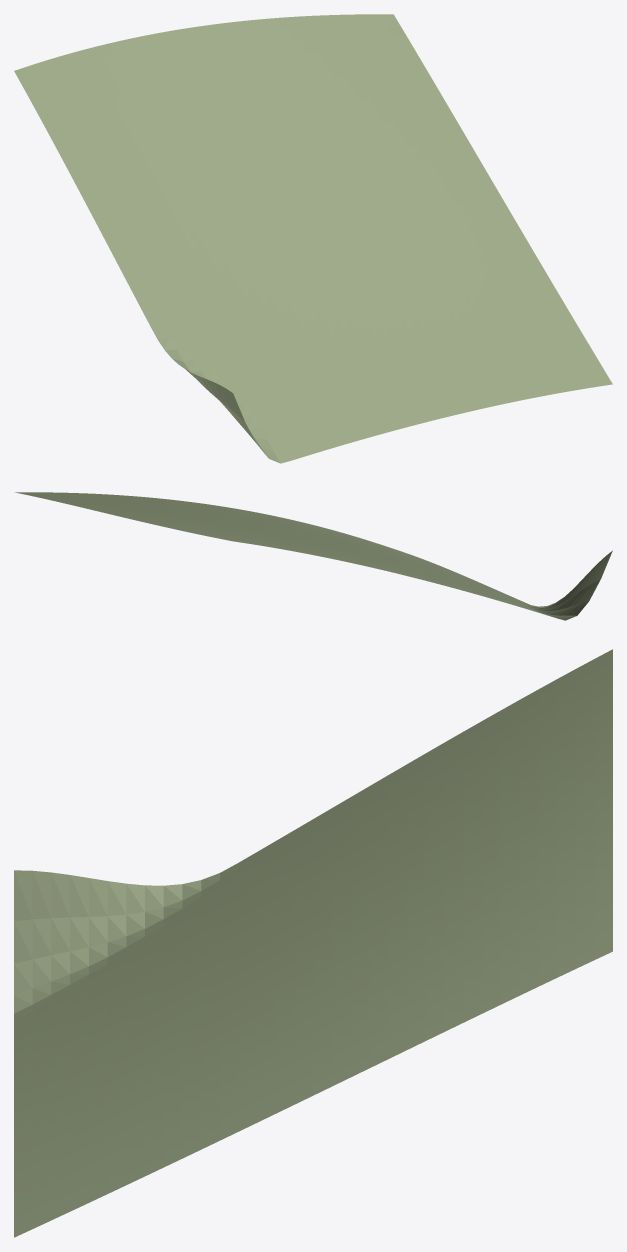
File: alpine-14-11.glb
3 views of the same model, one above another, from view 1: azimuth 30°, elevation 25°; view 2: azimuth 150°, elevation 25°; view 3: azimuth 270°, elevation 25° (orthographic). The views are drawn at different scales.
Parts seen in each view (by area): view 1: alpine-14-11; view 2: alpine-14-11; view 3: alpine-14-11.
Boxes of the visible parts, x1=… form: alpine-14-11: x1=14, y1=14, x2=612, y2=463; alpine-14-11: x1=15, y1=492, x2=612, y2=620; alpine-14-11: x1=14, y1=649, x2=612, y2=1237.
Size of the model in its own units: 256 by 161 by 256.
